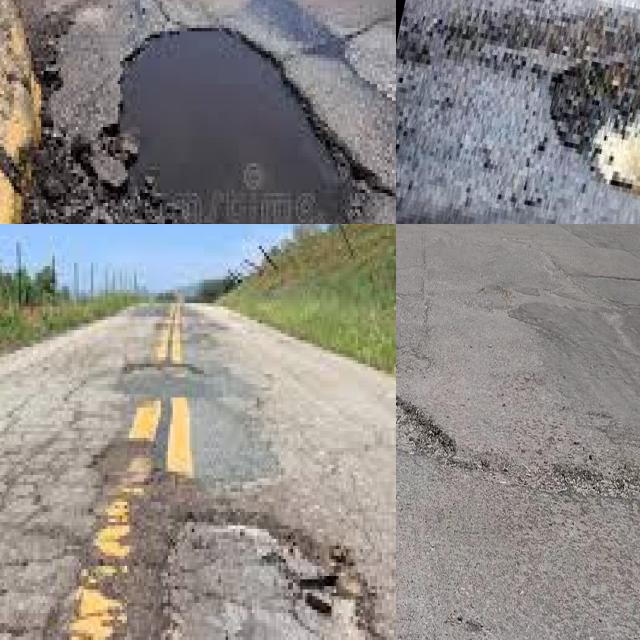Pothole: (118, 28, 375, 224), (127, 502, 378, 640), (549, 58, 640, 192), (396, 397, 451, 462), (592, 121, 640, 195)
